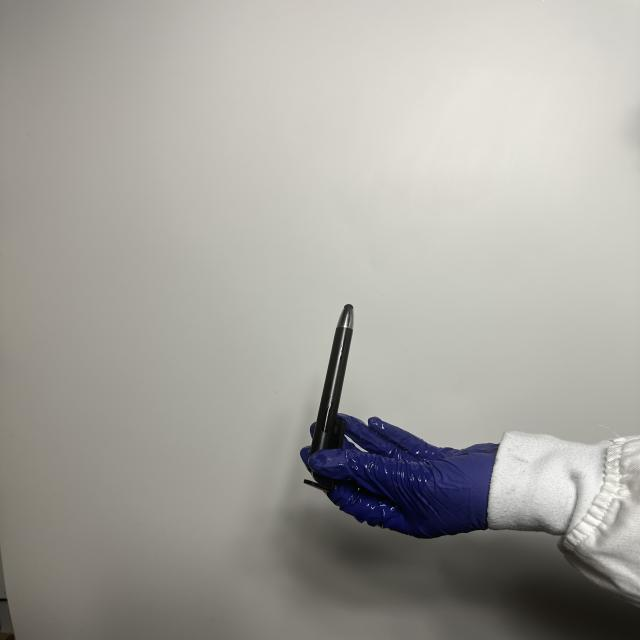gloves_contaminated: (301, 414, 498, 539)
